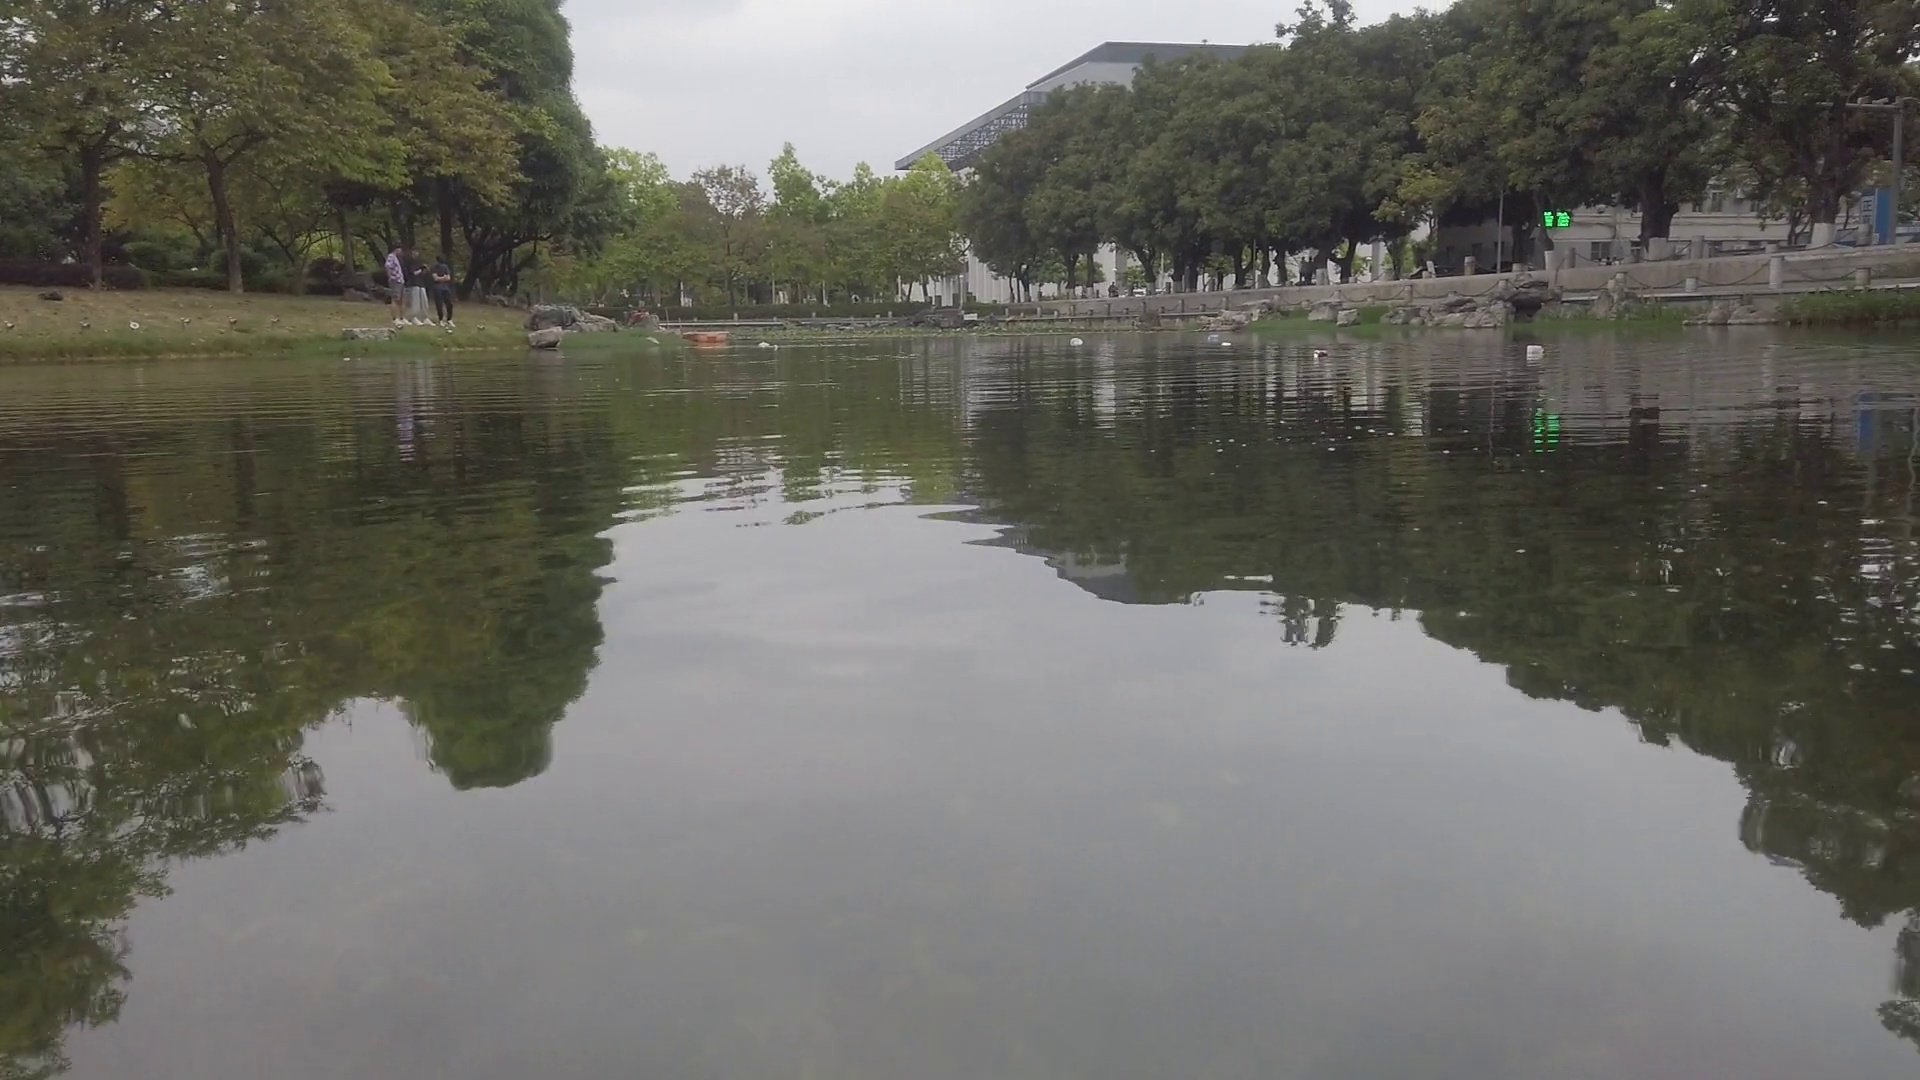bottle: (1313, 348, 1329, 357), (1209, 335, 1218, 342)
carton: (1528, 345, 1545, 353)
paper: (1222, 342, 1232, 349)
plastic: (1069, 336, 1084, 348), (758, 342, 770, 348)
